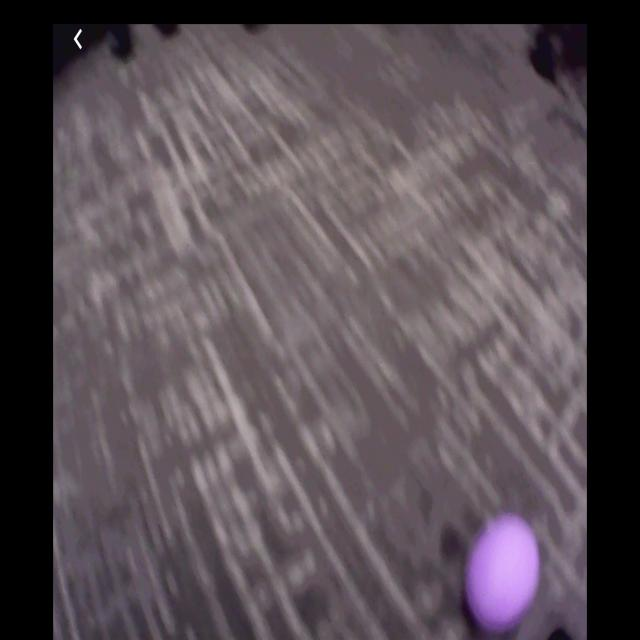ball: (466, 517, 542, 633)
